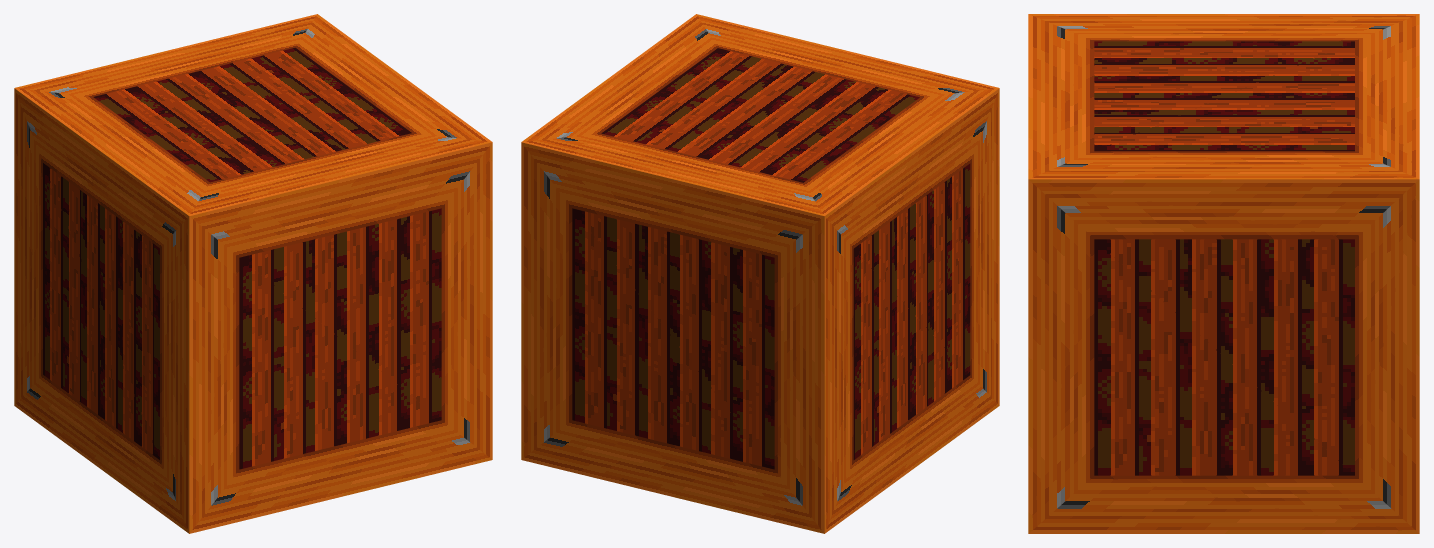
File: caja_fruta.obj
3 renders of one model, left to right at view 1: azimuth 30°, elevation 25°; view 2: azimuth 150°, elevation 25°; view 3: azimuth 270°, elevation 25°, orthographic. The views are drawn at different scales.
Parts seen in each view (by area): view 1: crate_fruit_hi; view 2: crate_fruit_hi; view 3: crate_fruit_hi.
Boxes of the visible parts, x1,y1,x2,y2 form: crate_fruit_hi: (14, 14, 492, 533); crate_fruit_hi: (521, 14, 999, 533); crate_fruit_hi: (1028, 14, 1419, 533).
Bounding box in the file's own units: 1.75 × 1.75 × 1.75.
